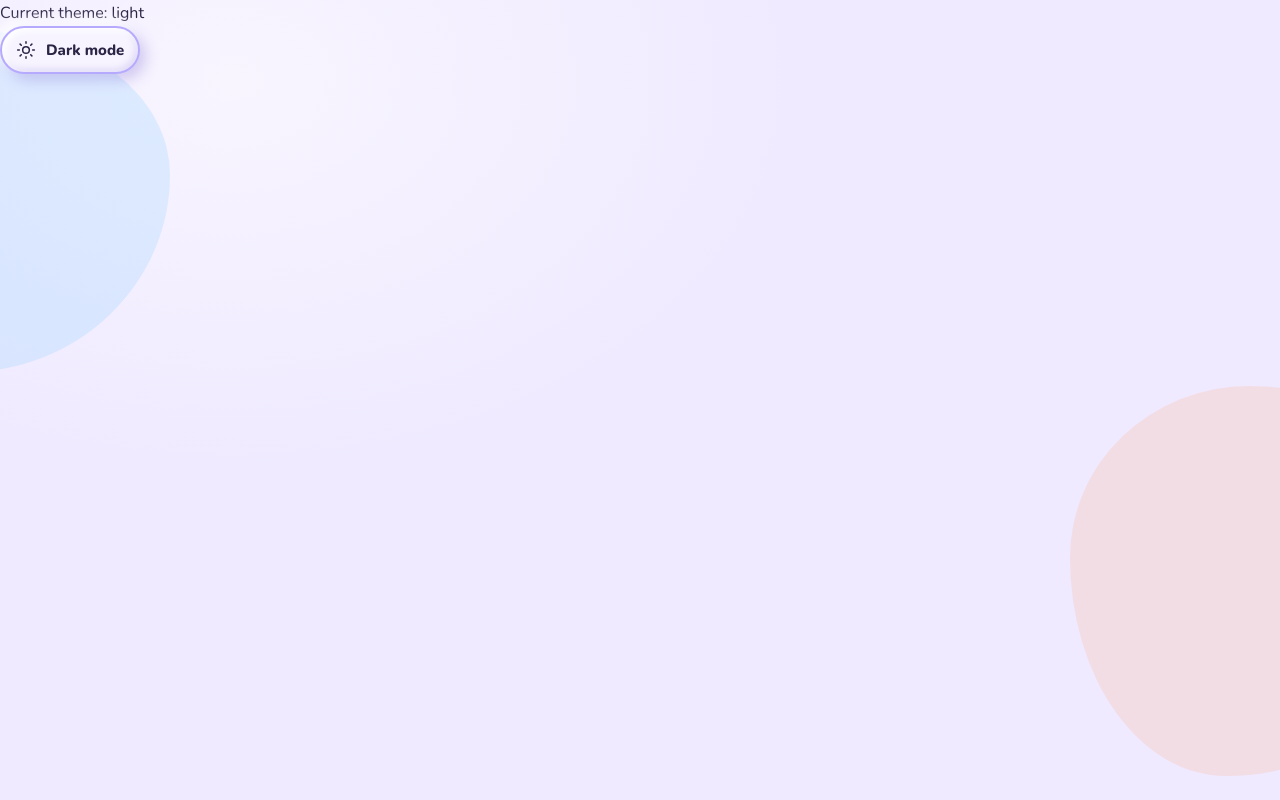
Test: Theme provider persistence and system preference › continues using an in-memory theme when local storage is unavailable
The width and height of the screenshot is (1280, 800).
Click the button with aria-label "Switch to dark mode" at {"x": 70, "y": 50}, box [0, 26, 140, 74]
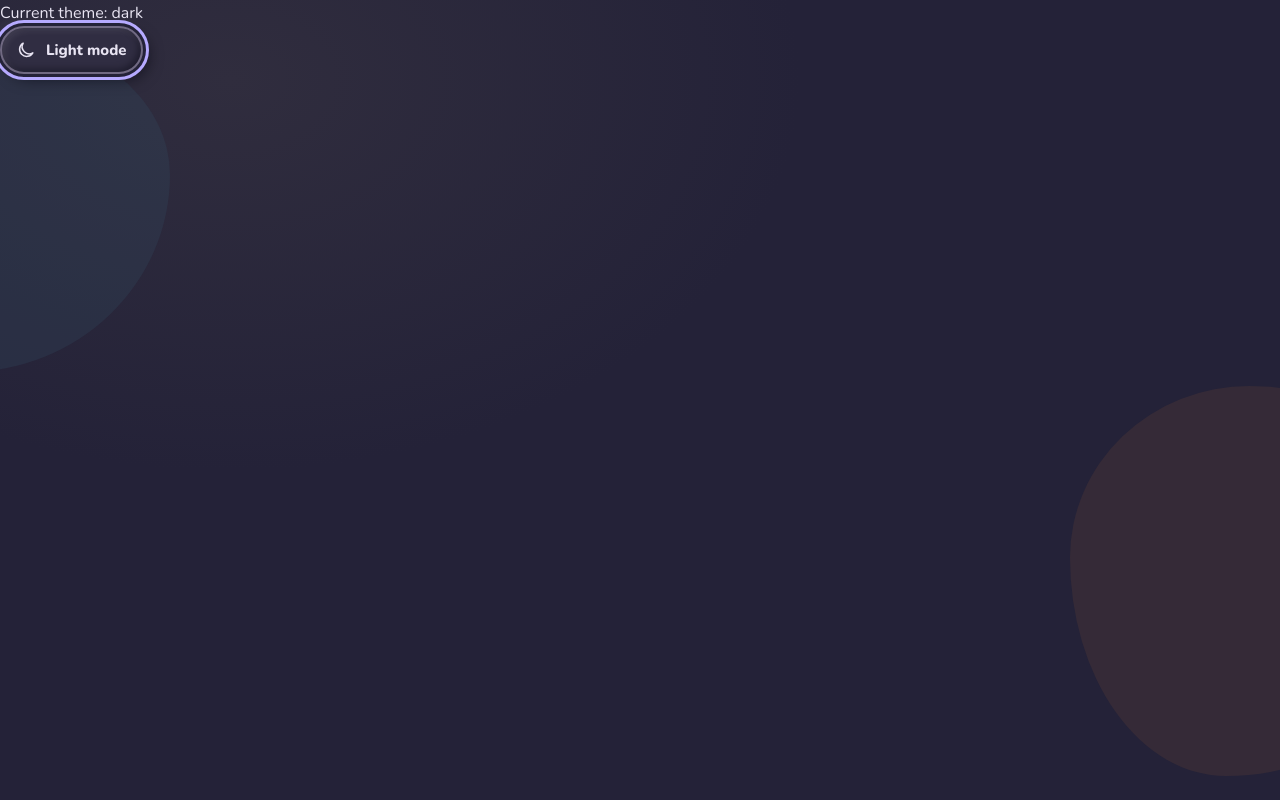
Now the text "Current theme: dark" is shown, box [0, 2, 143, 24]
